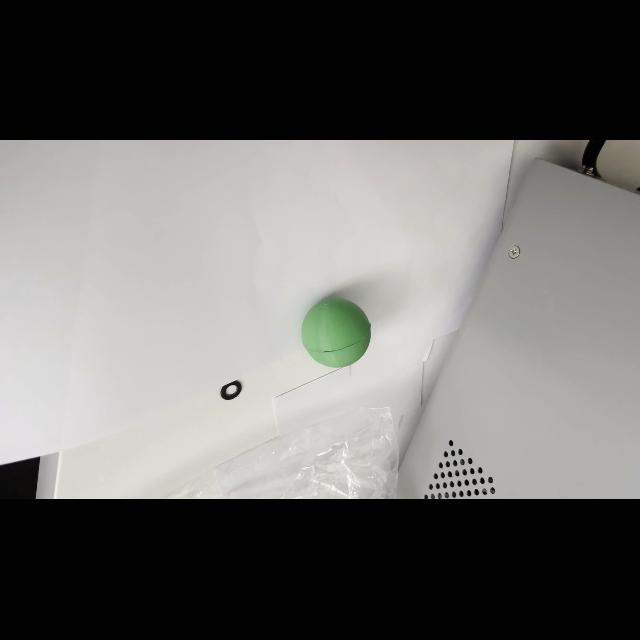objects: (300, 294, 376, 371)
